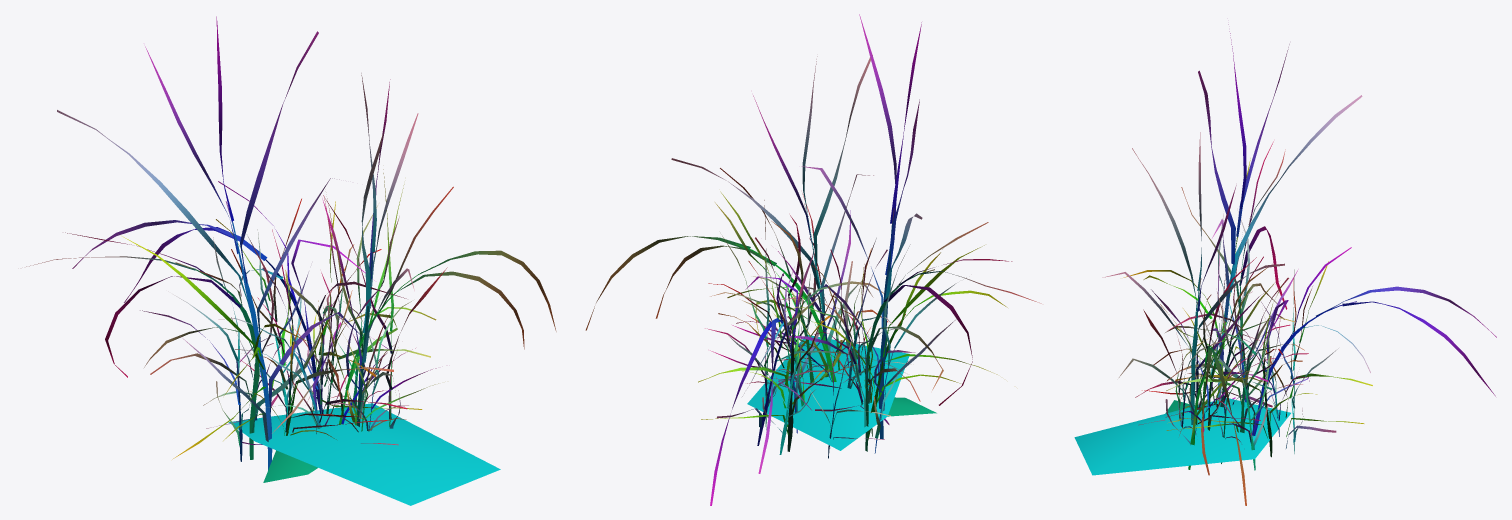
Rendered from Kikuyu_Grass_wiljearqx_High_wiljearqx_VarB_LOD1.fbx.
3 views of the same model, side by side, from view 1: azimuth 30°, elevation 25°; view 2: azimuth 150°, elevation 25°; view 3: azimuth 270°, elevation 25° (orthographic). The views are drawn at different scales.
Visible parts, largest first — view 1: _joh2_VarB_LOD2; view 2: _joh2_VarB_LOD2; view 3: _joh2_VarB_LOD2.
Part boxes in pixels (x1,y1,x2,y2): _joh2_VarB_LOD2: [26, 16, 556, 505]; _joh2_VarB_LOD2: [585, 14, 1041, 505]; _joh2_VarB_LOD2: [1074, 24, 1496, 505].
Size of the model in its own units: 56.52 by 48.64 by 47.33.
